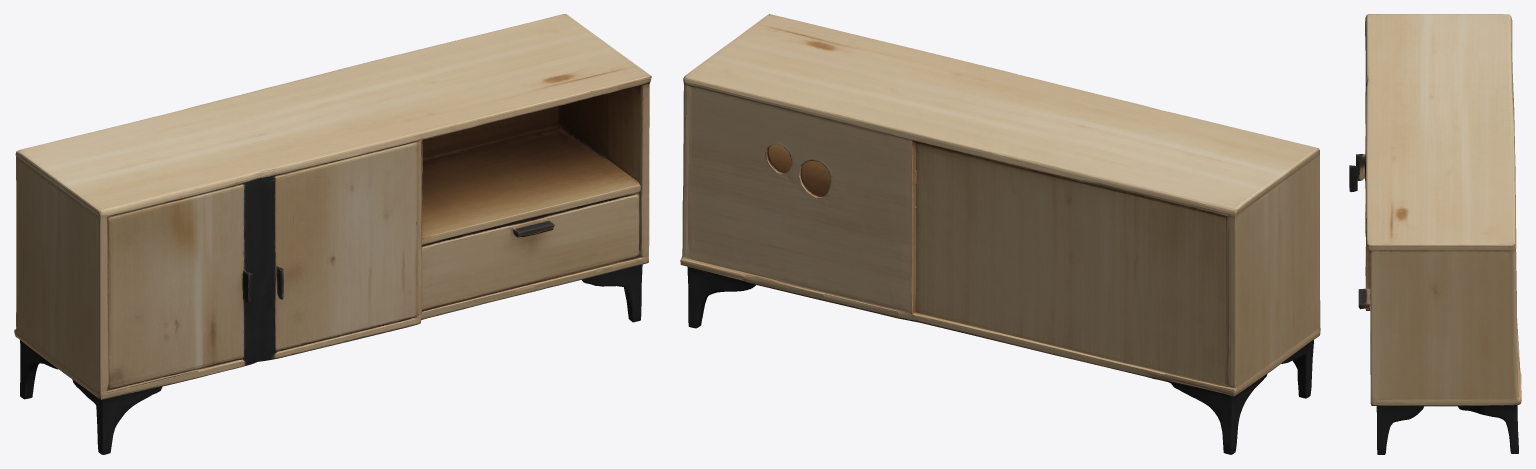
Rendered from mw23_tv_cabinet_uk_oak_black.glb.
3 views of the same model, side by side, from view 1: azimuth 30°, elevation 25°; view 2: azimuth 150°, elevation 25°; view 3: azimuth 270°, elevation 25° (orthographic). The views are drawn at different scales.
Parts seen in each view (by area): view 1: world; view 2: world; view 3: world.
Part boxes in pixels (box(x1,y1,x2,y2)): world: box(14, 14, 651, 454); world: box(680, 14, 1320, 454); world: box(1349, 14, 1521, 454).
Bounding box in the file's own units: 1 × 0.4294 × 0.3151.
1 material, 1 textured.
